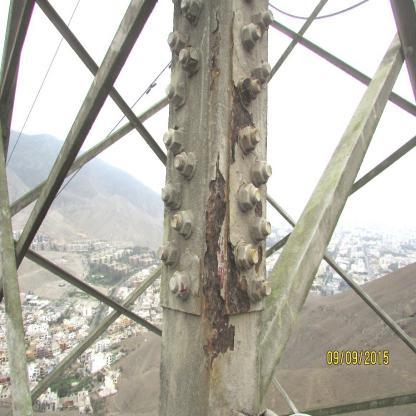Grado3: (203, 165, 233, 360), (234, 71, 256, 143), (240, 267, 245, 318)
